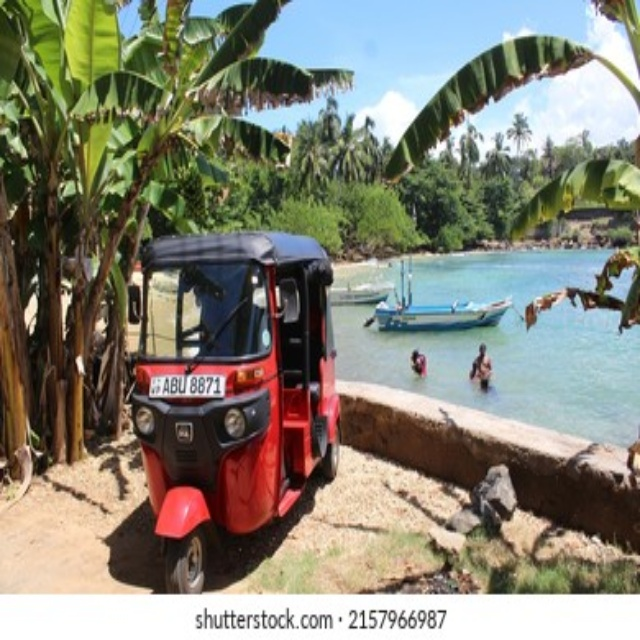Motorcycle: (126, 231, 341, 597)
